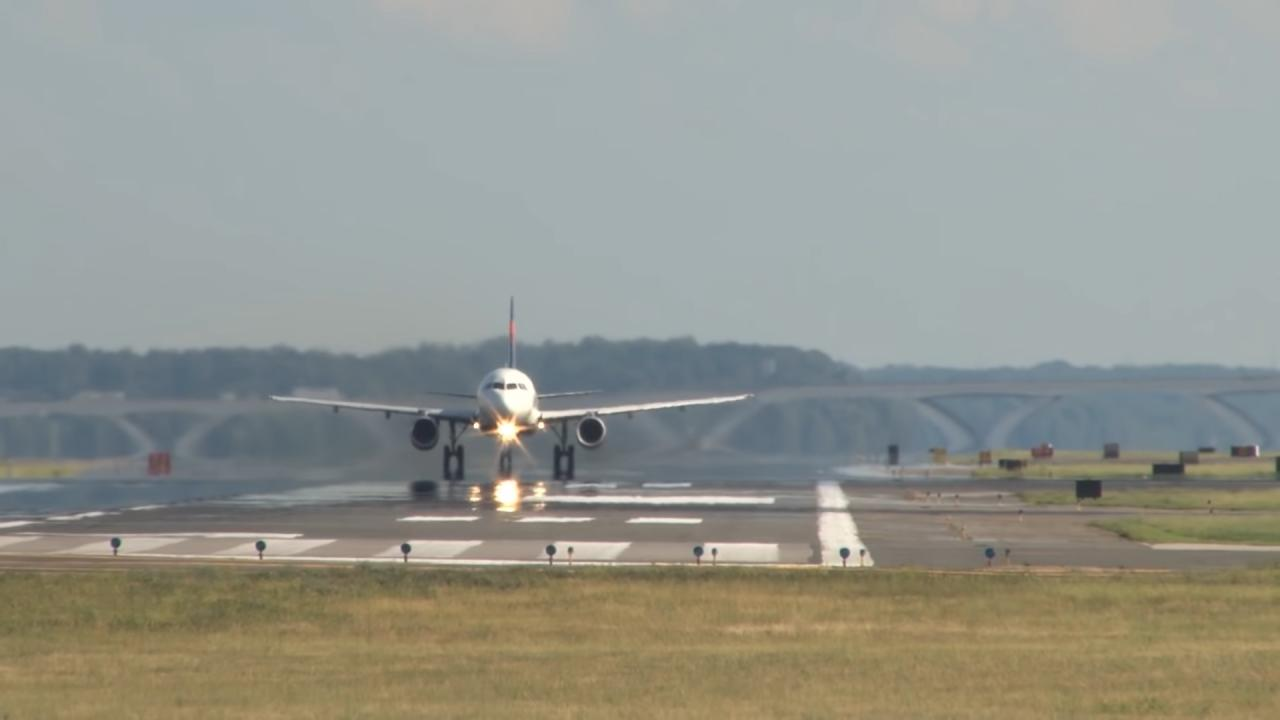Airplane: (257, 280, 759, 494)
